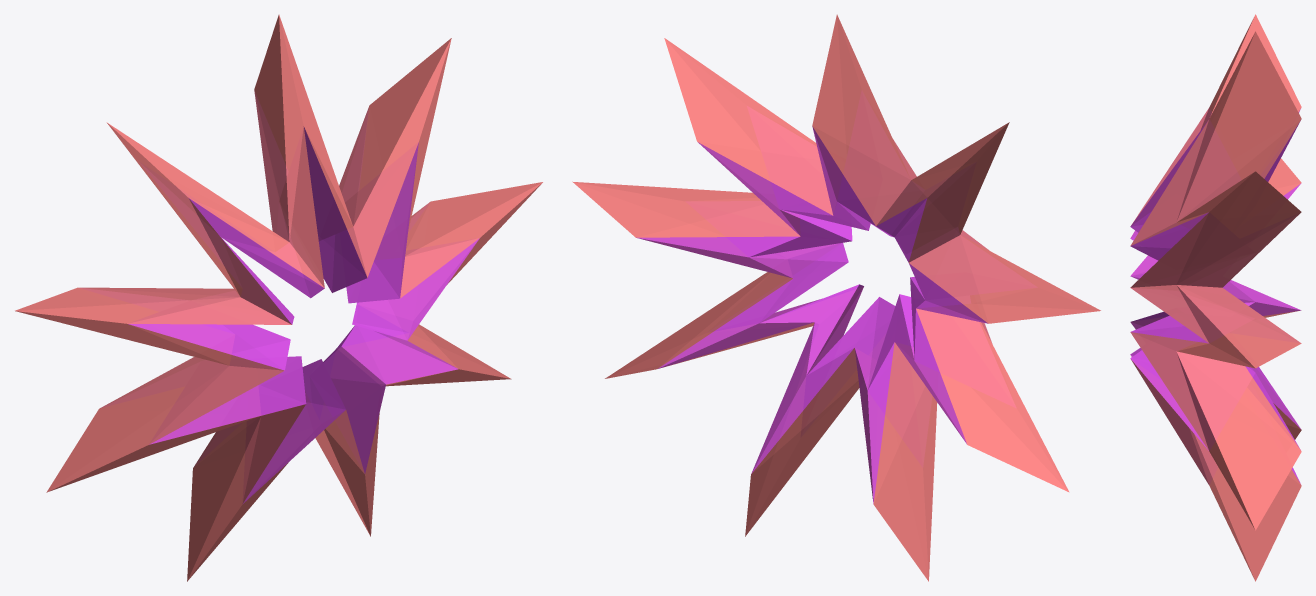
Rendered from Regular9TetragonalStarToroid1.obj.
The picture shows the model from 3 angles, left to right: view 1: azimuth 30°, elevation 25°; view 2: azimuth 150°, elevation 25°; view 3: azimuth 270°, elevation 25°; orthographic projection. The views are drawn at different scales.
Bounding box in the file's own units: 4.32 × 4.25 × 1.3.
